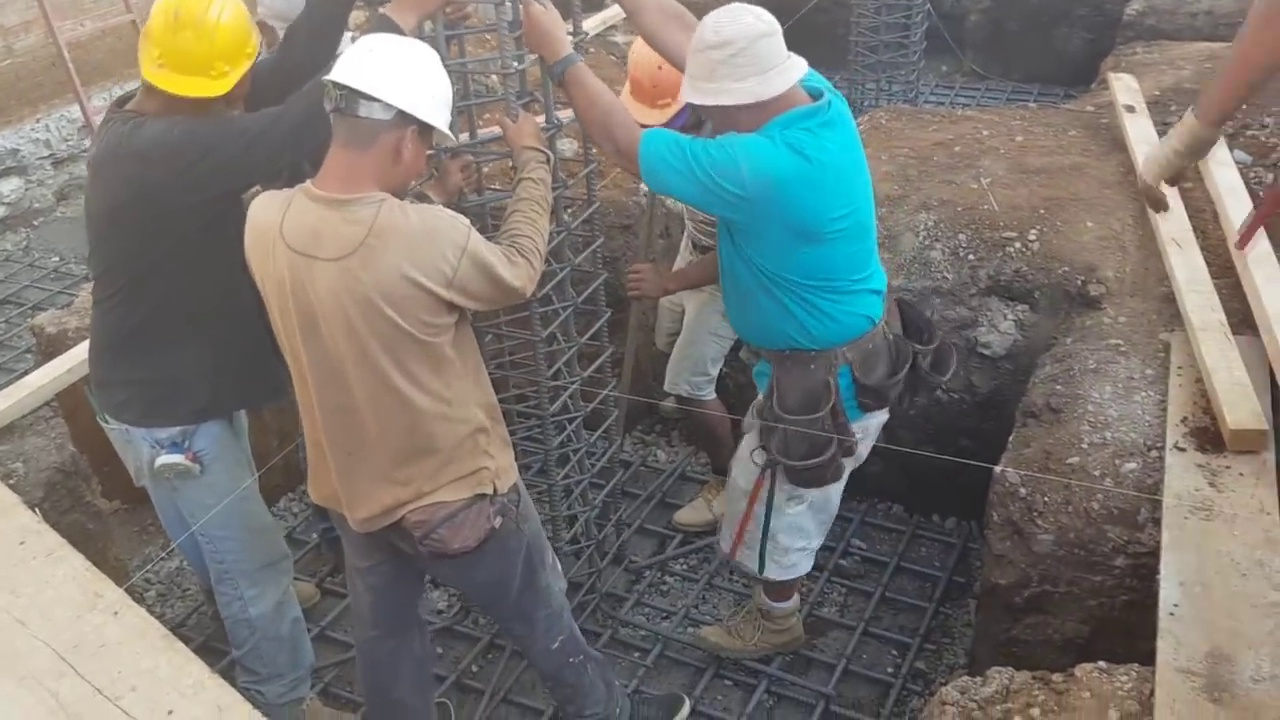helmet: (317, 32, 458, 146), (121, 3, 257, 100), (618, 37, 689, 128)
helmet-off: (669, 5, 824, 138)
helmet-on: (295, 33, 463, 210), (100, 4, 262, 125), (621, 34, 707, 155)
person: (237, 36, 692, 720), (74, 0, 434, 720), (525, 0, 898, 657), (612, 17, 744, 539)
